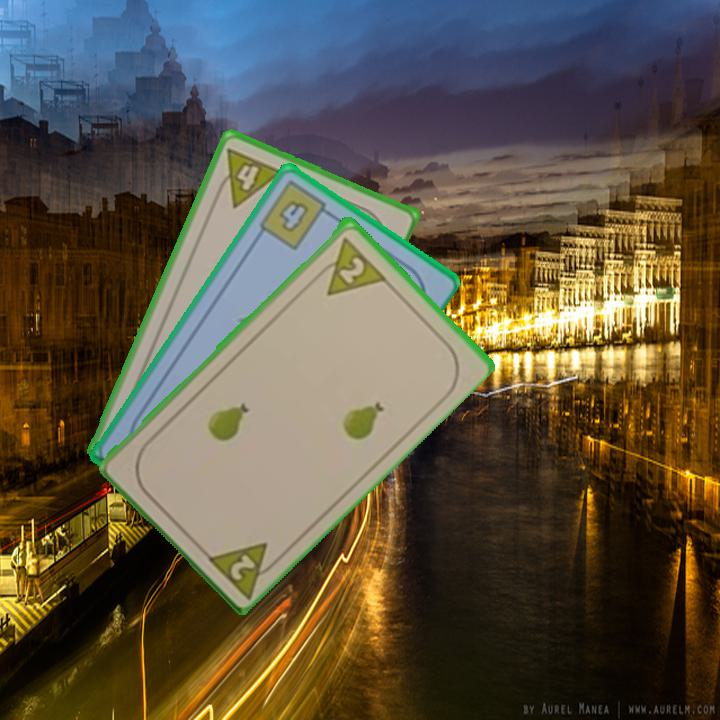2p: (201, 537, 285, 600), (309, 232, 388, 298)
4b: (254, 176, 337, 253)
4p: (210, 144, 286, 211)
